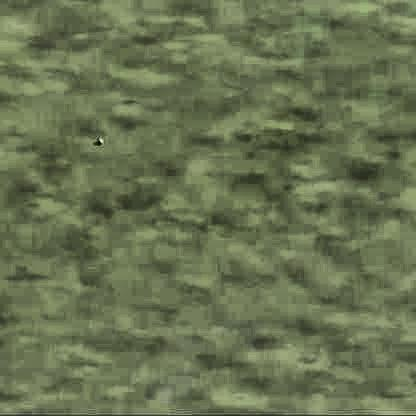golfball: (95, 133, 102, 143)
